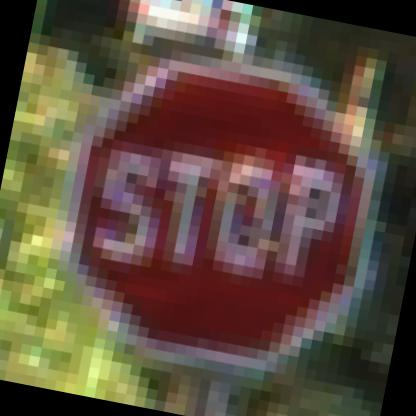stop: (20, 31, 415, 403)
